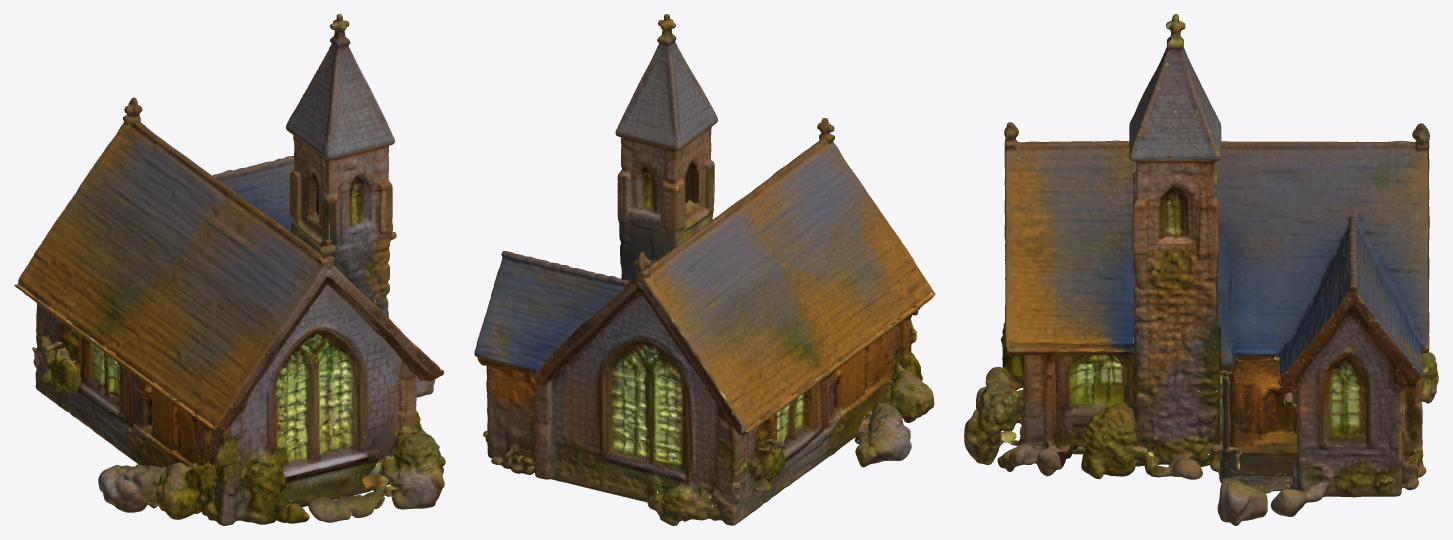
The model's file is casatecnomago-v2.glb.
3 renders of one model, left to right at view 1: azimuth 30°, elevation 25°; view 2: azimuth 150°, elevation 25°; view 3: azimuth 270°, elevation 25°, orthographic. The views are drawn at different scales.
Visible parts, largest first — view 1: casatecnomago.obj; view 2: casatecnomago.obj; view 3: casatecnomago.obj.
Part boxes in pixels (bbox=[...]): casatecnomago.obj: bbox=[14, 14, 445, 525]; casatecnomago.obj: bbox=[474, 14, 935, 525]; casatecnomago.obj: bbox=[964, 14, 1438, 525].
Size of the model in its own units: 1.79 by 1.97 by 1.87.
Materials: 1 (1 with a texture image).
